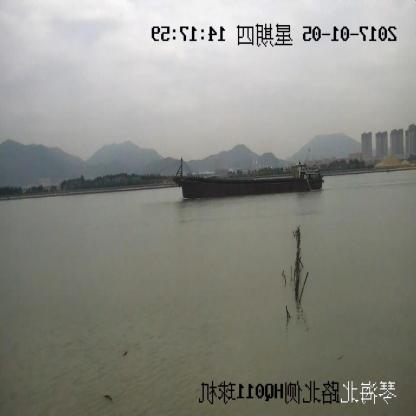Bulk Carrier: (161, 158, 323, 198)
